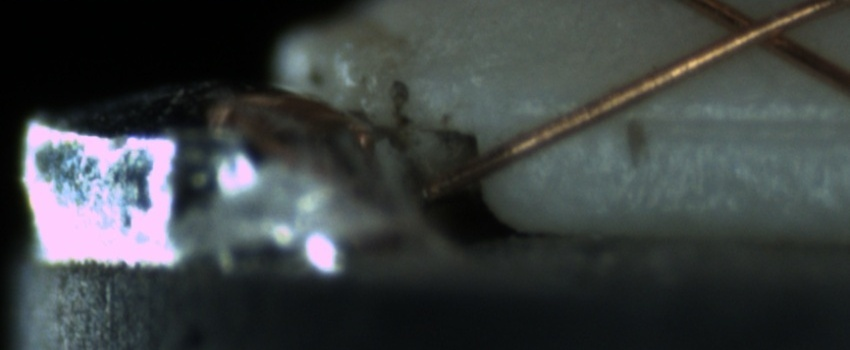CL: (701, 1, 810, 60)
DL: (559, 87, 845, 157)
